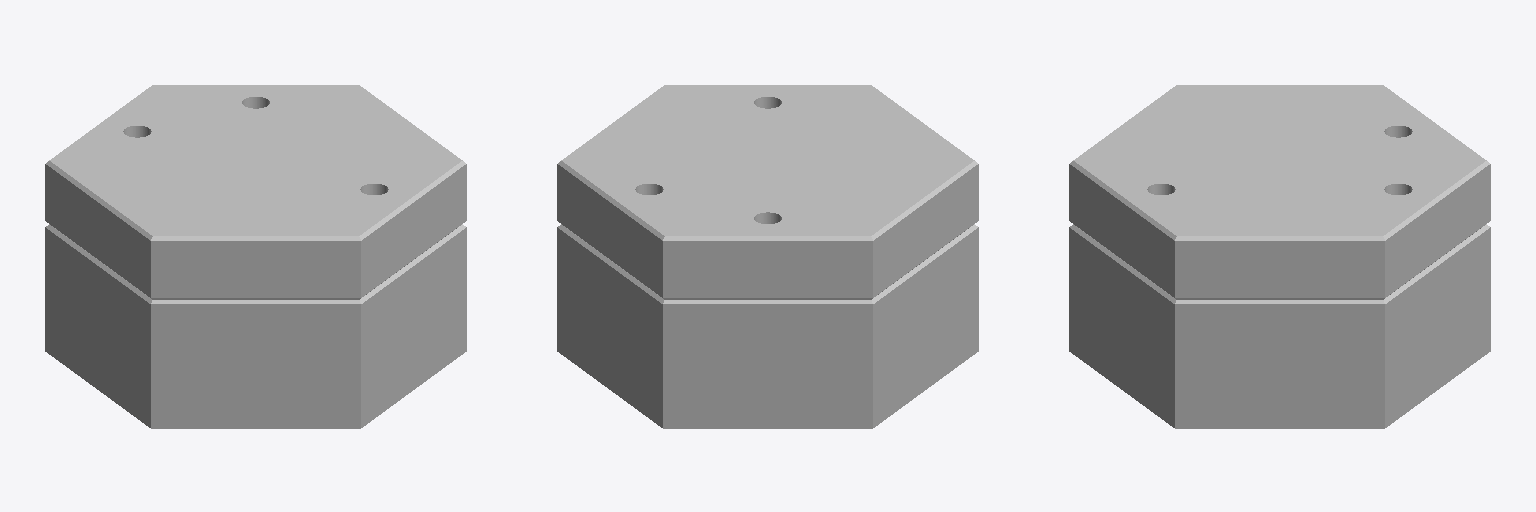
The model's file is lvl2D.obj.
3 renders of one model, left to right at view 1: azimuth 30°, elevation 25°; view 2: azimuth 150°, elevation 25°; view 3: azimuth 270°, elevation 25°, orthographic.
Parts seen in each view (by area): view 1: Lvl2D-3_(Mono-NoMags); view 2: Lvl2D-3_(Mono-NoMags); view 3: Lvl2D-3_(Mono-NoMags).
Boxes of the visible parts, <box> form: Lvl2D-3_(Mono-NoMags): <box>45,85,466,428</box>; Lvl2D-3_(Mono-NoMags): <box>557,85,978,428</box>; Lvl2D-3_(Mono-NoMags): <box>1069,85,1490,428</box>.
Size of the model in its own units: 3.13 by 1.81 by 3.62.